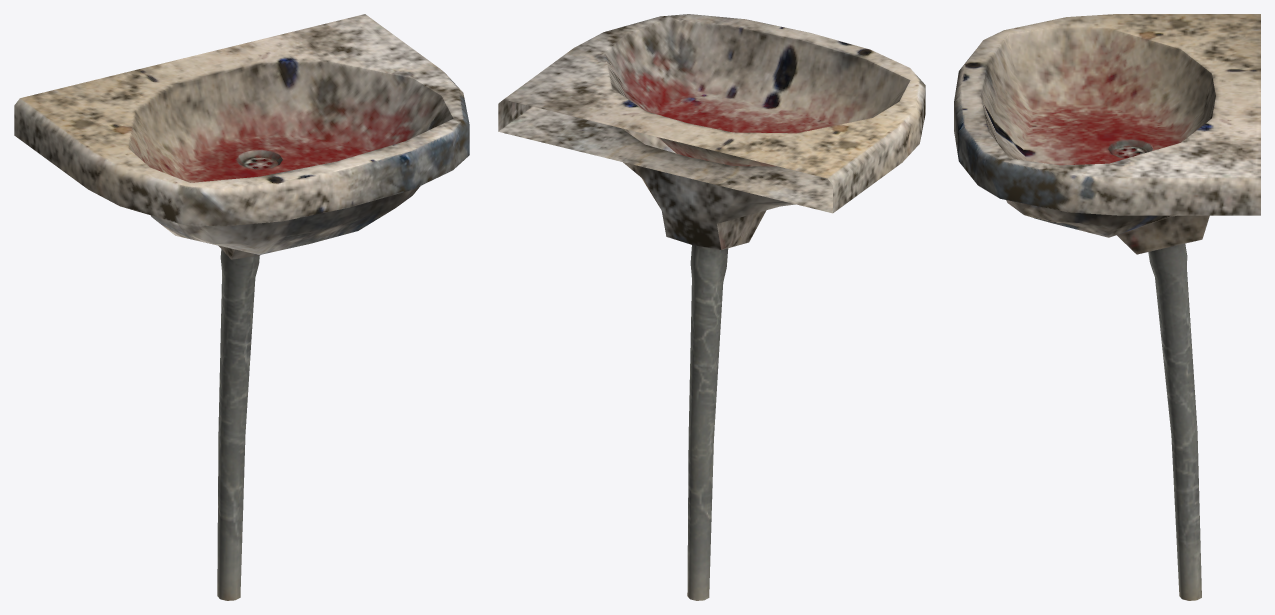
Rendered from Basin.FBX.
3 renders of one model, left to right at view 1: azimuth 30°, elevation 25°; view 2: azimuth 150°, elevation 25°; view 3: azimuth 270°, elevation 25°, orthographic. The views are drawn at different scales.
Visible parts, largest first — view 1: Basin; view 2: Basin; view 3: Basin.
Part boxes in pixels (box(x1,y1,x2,y2)): Basin: box(14, 14, 469, 600); Basin: box(498, 14, 925, 600); Basin: box(954, 14, 1260, 600).
Size of the model in its own units: 76.49 by 105 by 58.59.
